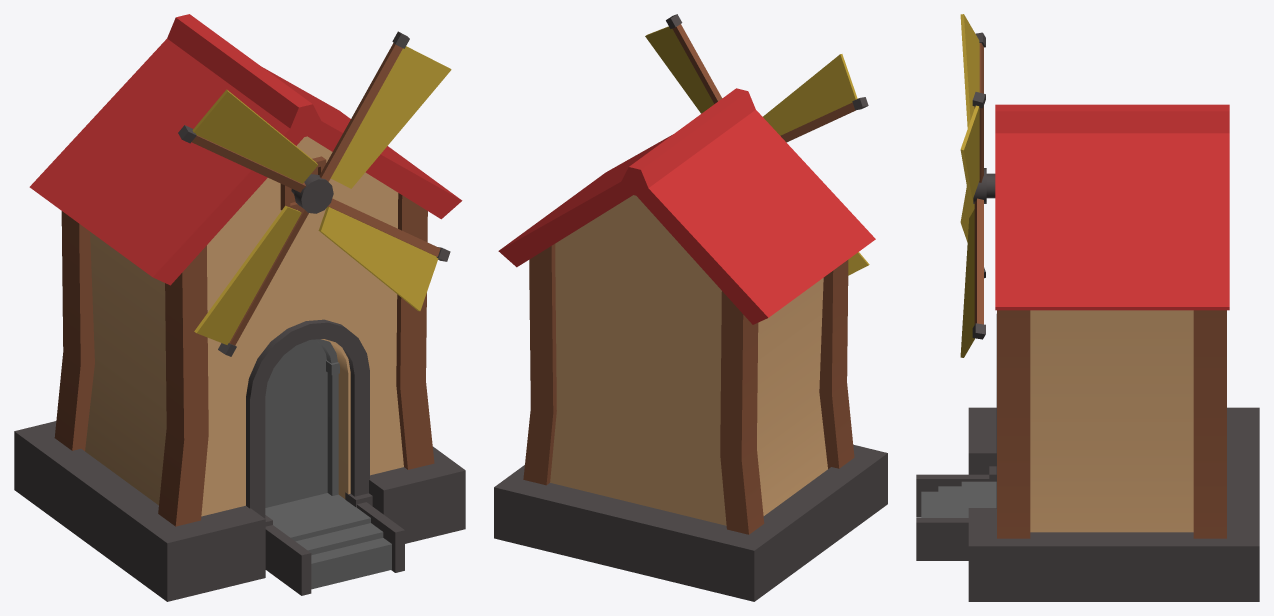
Rendered from SM_Wind_mill.glb.
3 views of the same model, side by side, from view 1: azimuth 30°, elevation 25°; view 2: azimuth 150°, elevation 25°; view 3: azimuth 270°, elevation 25° (orthographic). The views are drawn at different scales.
Visible parts, largest first — view 1: SM_Wind_Mill; view 2: SM_Wind_Mill; view 3: SM_Wind_Mill.
Part boxes in pixels (x1,y1,x2,y2): SM_Wind_Mill: (14, 14, 465, 601); SM_Wind_Mill: (494, 14, 887, 601); SM_Wind_Mill: (916, 14, 1259, 601).
Bounding box in the file's own units: 514 × 803 × 518.
